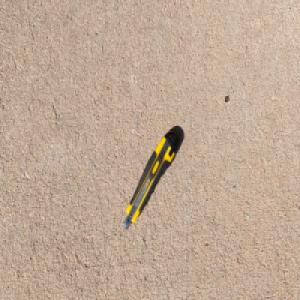Cutter: (122, 129, 180, 231)
